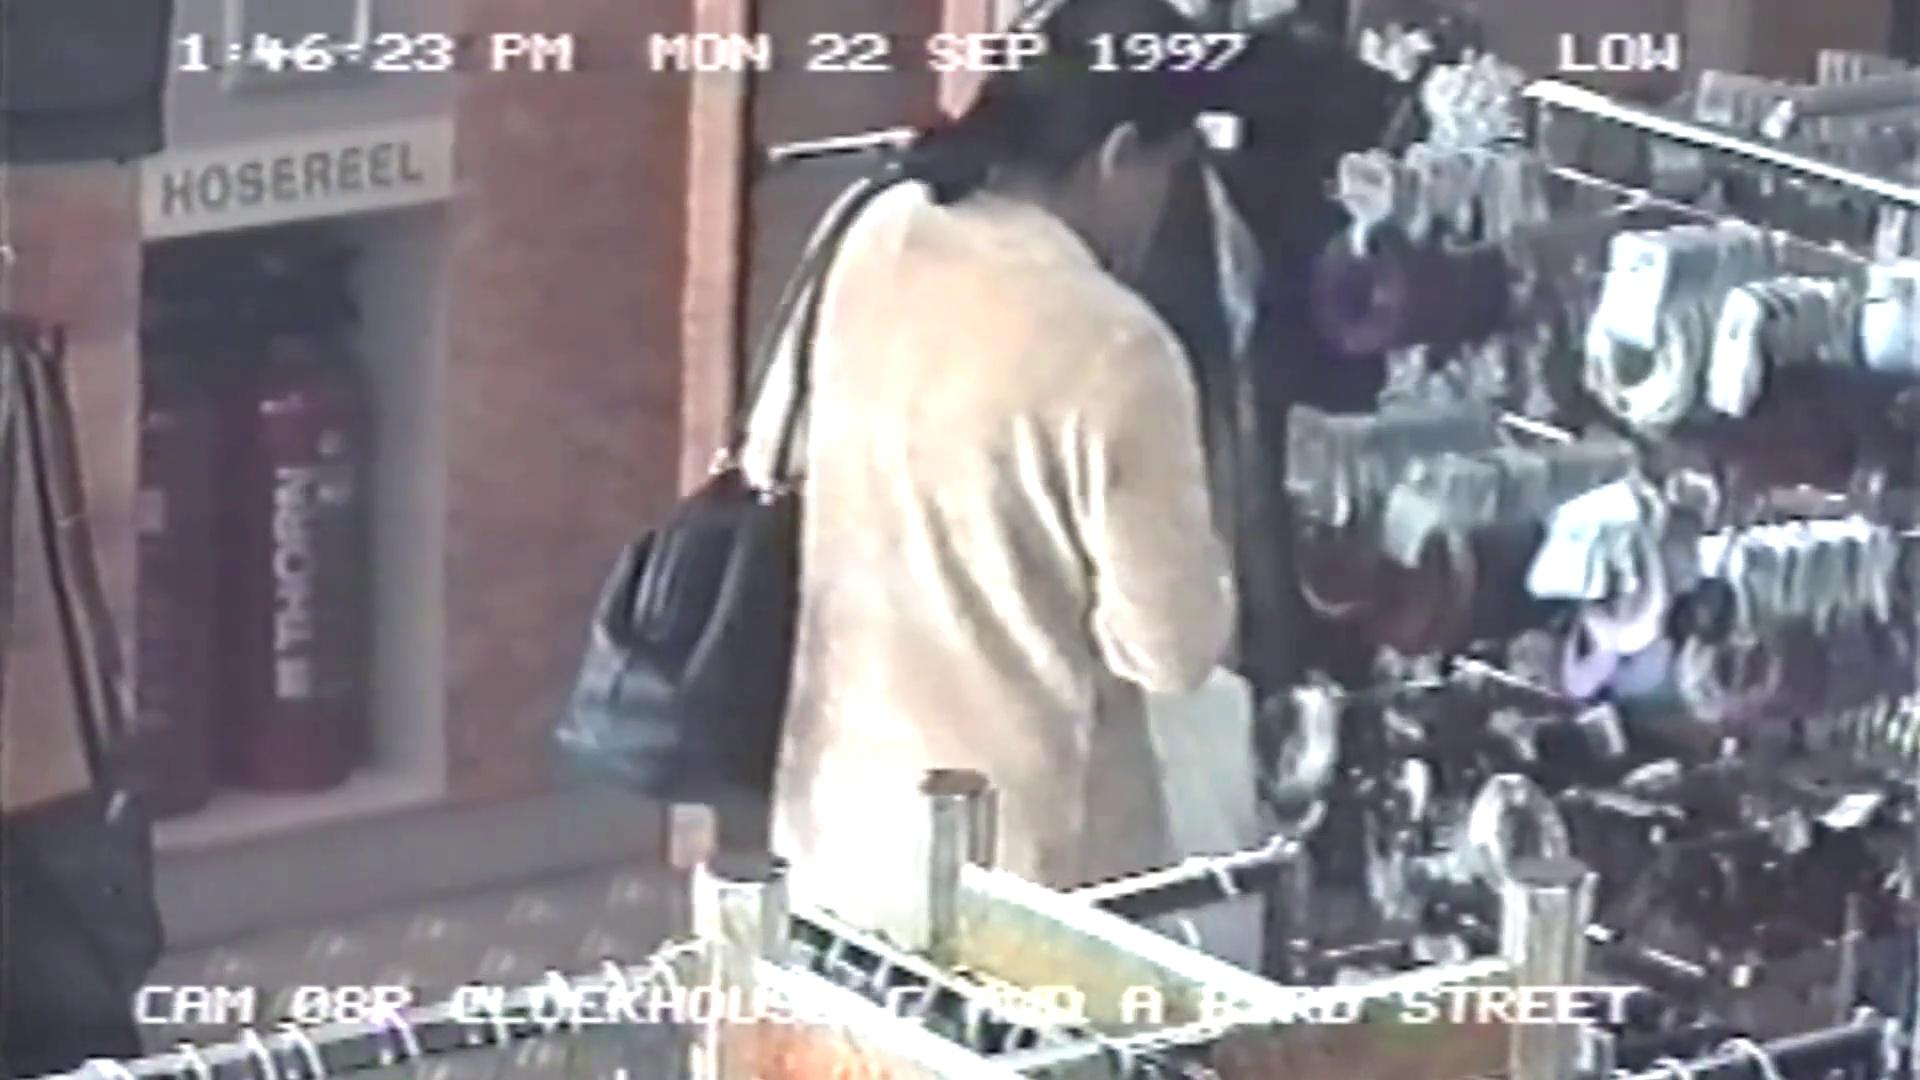4: (545, 12, 1366, 1080)
persone: (571, 500, 860, 795)
